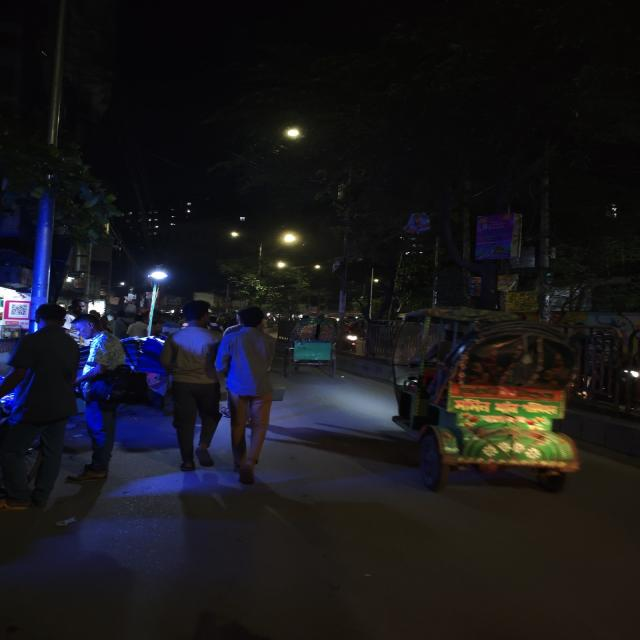pedestrian: (0, 301, 99, 517), (155, 302, 230, 470), (212, 305, 286, 471)
rickshaw: (392, 309, 613, 501), (276, 314, 347, 378)
